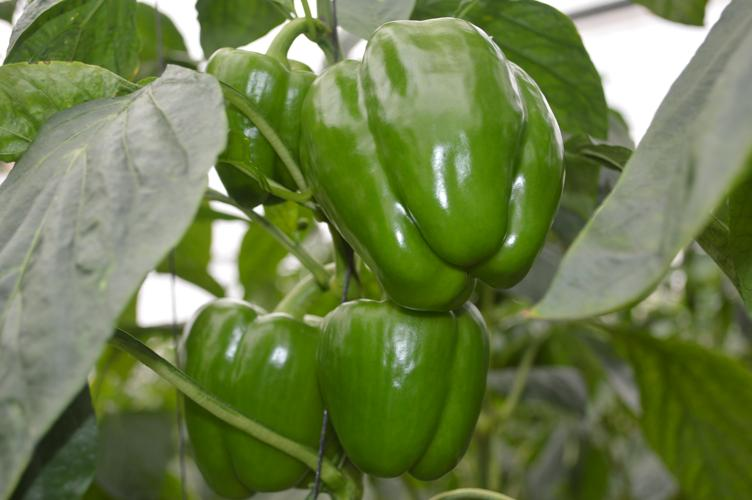BellPepper: (308, 7, 550, 313), (313, 280, 505, 480), (162, 284, 330, 484), (196, 27, 320, 211)
